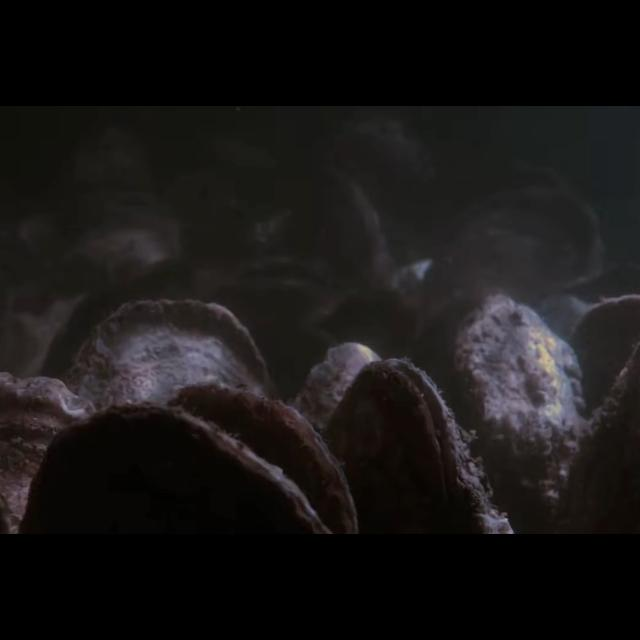Oyster-Closed: (17, 402, 330, 534), (162, 379, 358, 535), (0, 370, 98, 534)
Oyster-Indeterminate: (61, 298, 279, 534), (440, 296, 590, 534), (412, 183, 604, 345), (288, 343, 384, 534), (292, 164, 406, 300), (55, 206, 183, 288), (571, 293, 640, 429)
Oyster-Open: (323, 358, 515, 534), (221, 252, 345, 304)
